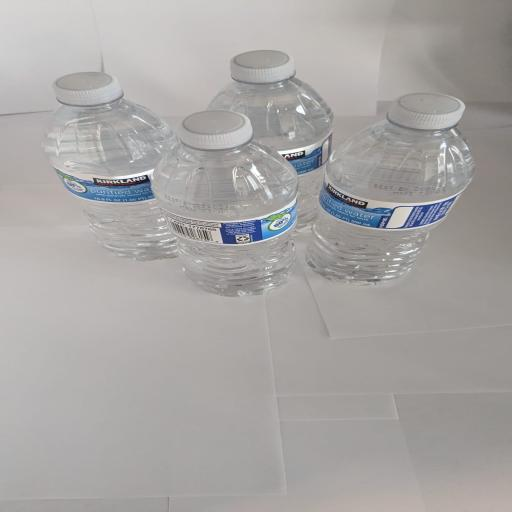waterbottle: (307, 94, 474, 283), (153, 111, 298, 295), (43, 73, 176, 259), (209, 51, 332, 231)
